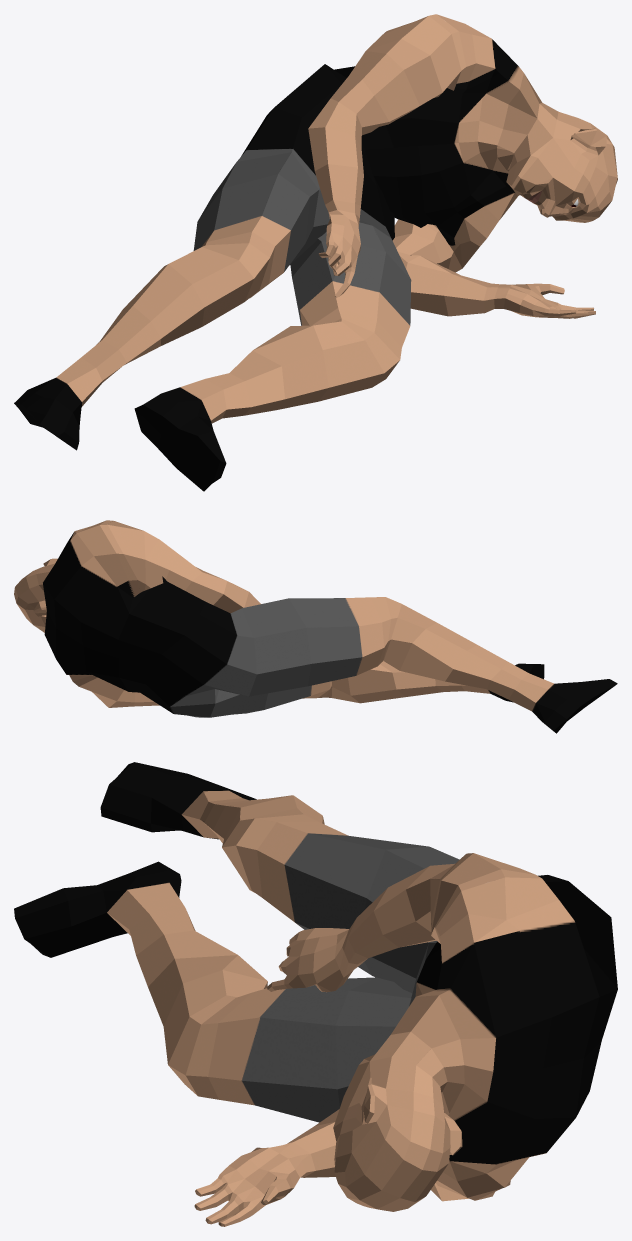
File: PlayerDead(69).obj
3 views of the same model, one above another, from view 1: azimuth 30°, elevation 25°; view 2: azimuth 150°, elevation 25°; view 3: azimuth 270°, elevation 25° (orthographic). The views are drawn at different scales.
Visible parts, largest first — view 1: Plane002; view 2: Plane002; view 3: Plane002.
Part boxes in pixels (left/top/right/bottom): Plane002: left=14, top=14, right=617, bottom=491; Plane002: left=14, top=520, right=617, bottom=733; Plane002: left=14, top=762, right=617, bottom=1226.
Bounding box in the file's own units: 1593 × 574 × 910.
